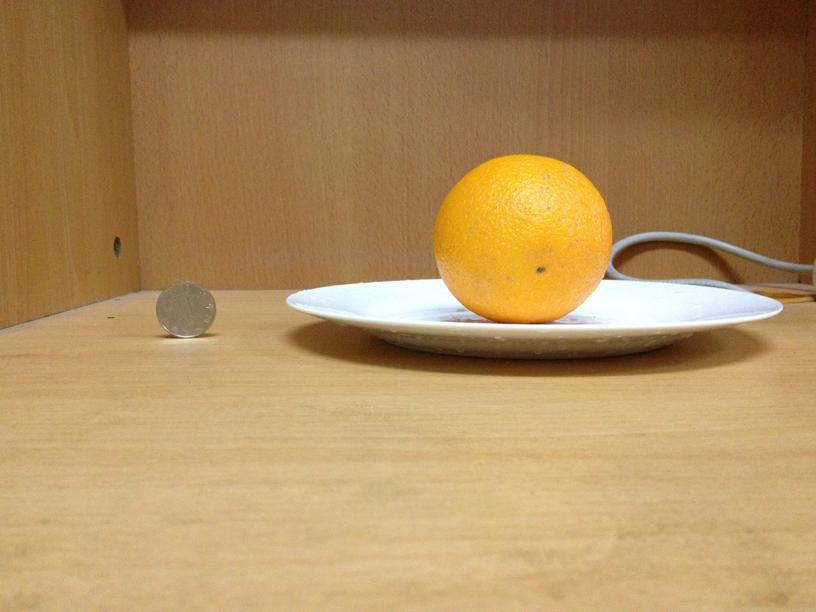coin: (154, 280, 217, 338)
orange: (429, 154, 612, 322)
